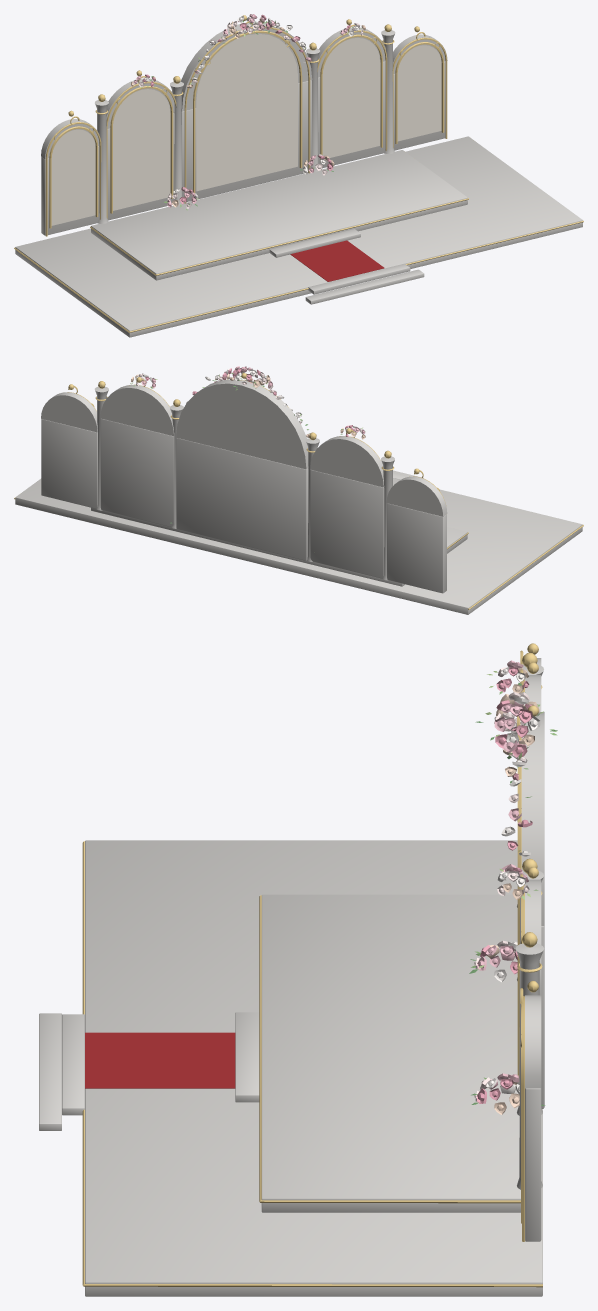
The model's file is stage-ballroom.glb.
3 views of the same model, one above another, from view 1: azimuth 30°, elevation 25°; view 2: azimuth 150°, elevation 25°; view 3: azimuth 270°, elevation 25° (orthographic). The views are drawn at different scales.
Parts seen in each view (by area): view 1: stage-ballroom; view 2: stage-ballroom; view 3: stage-ballroom.
Part boxes in pixels (<box>): stage-ballroom: <box>14,14,583,337</box>; stage-ballroom: <box>14,366,583,614</box>; stage-ballroom: <box>39,643,557,1296</box>.
Bounding box in the file's own units: 16.07 × 6.32 × 7.94.
